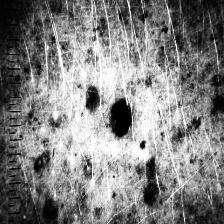Benign Marking or Mole: (141, 158, 163, 204), (111, 98, 133, 141), (85, 86, 102, 112), (32, 152, 52, 173)
